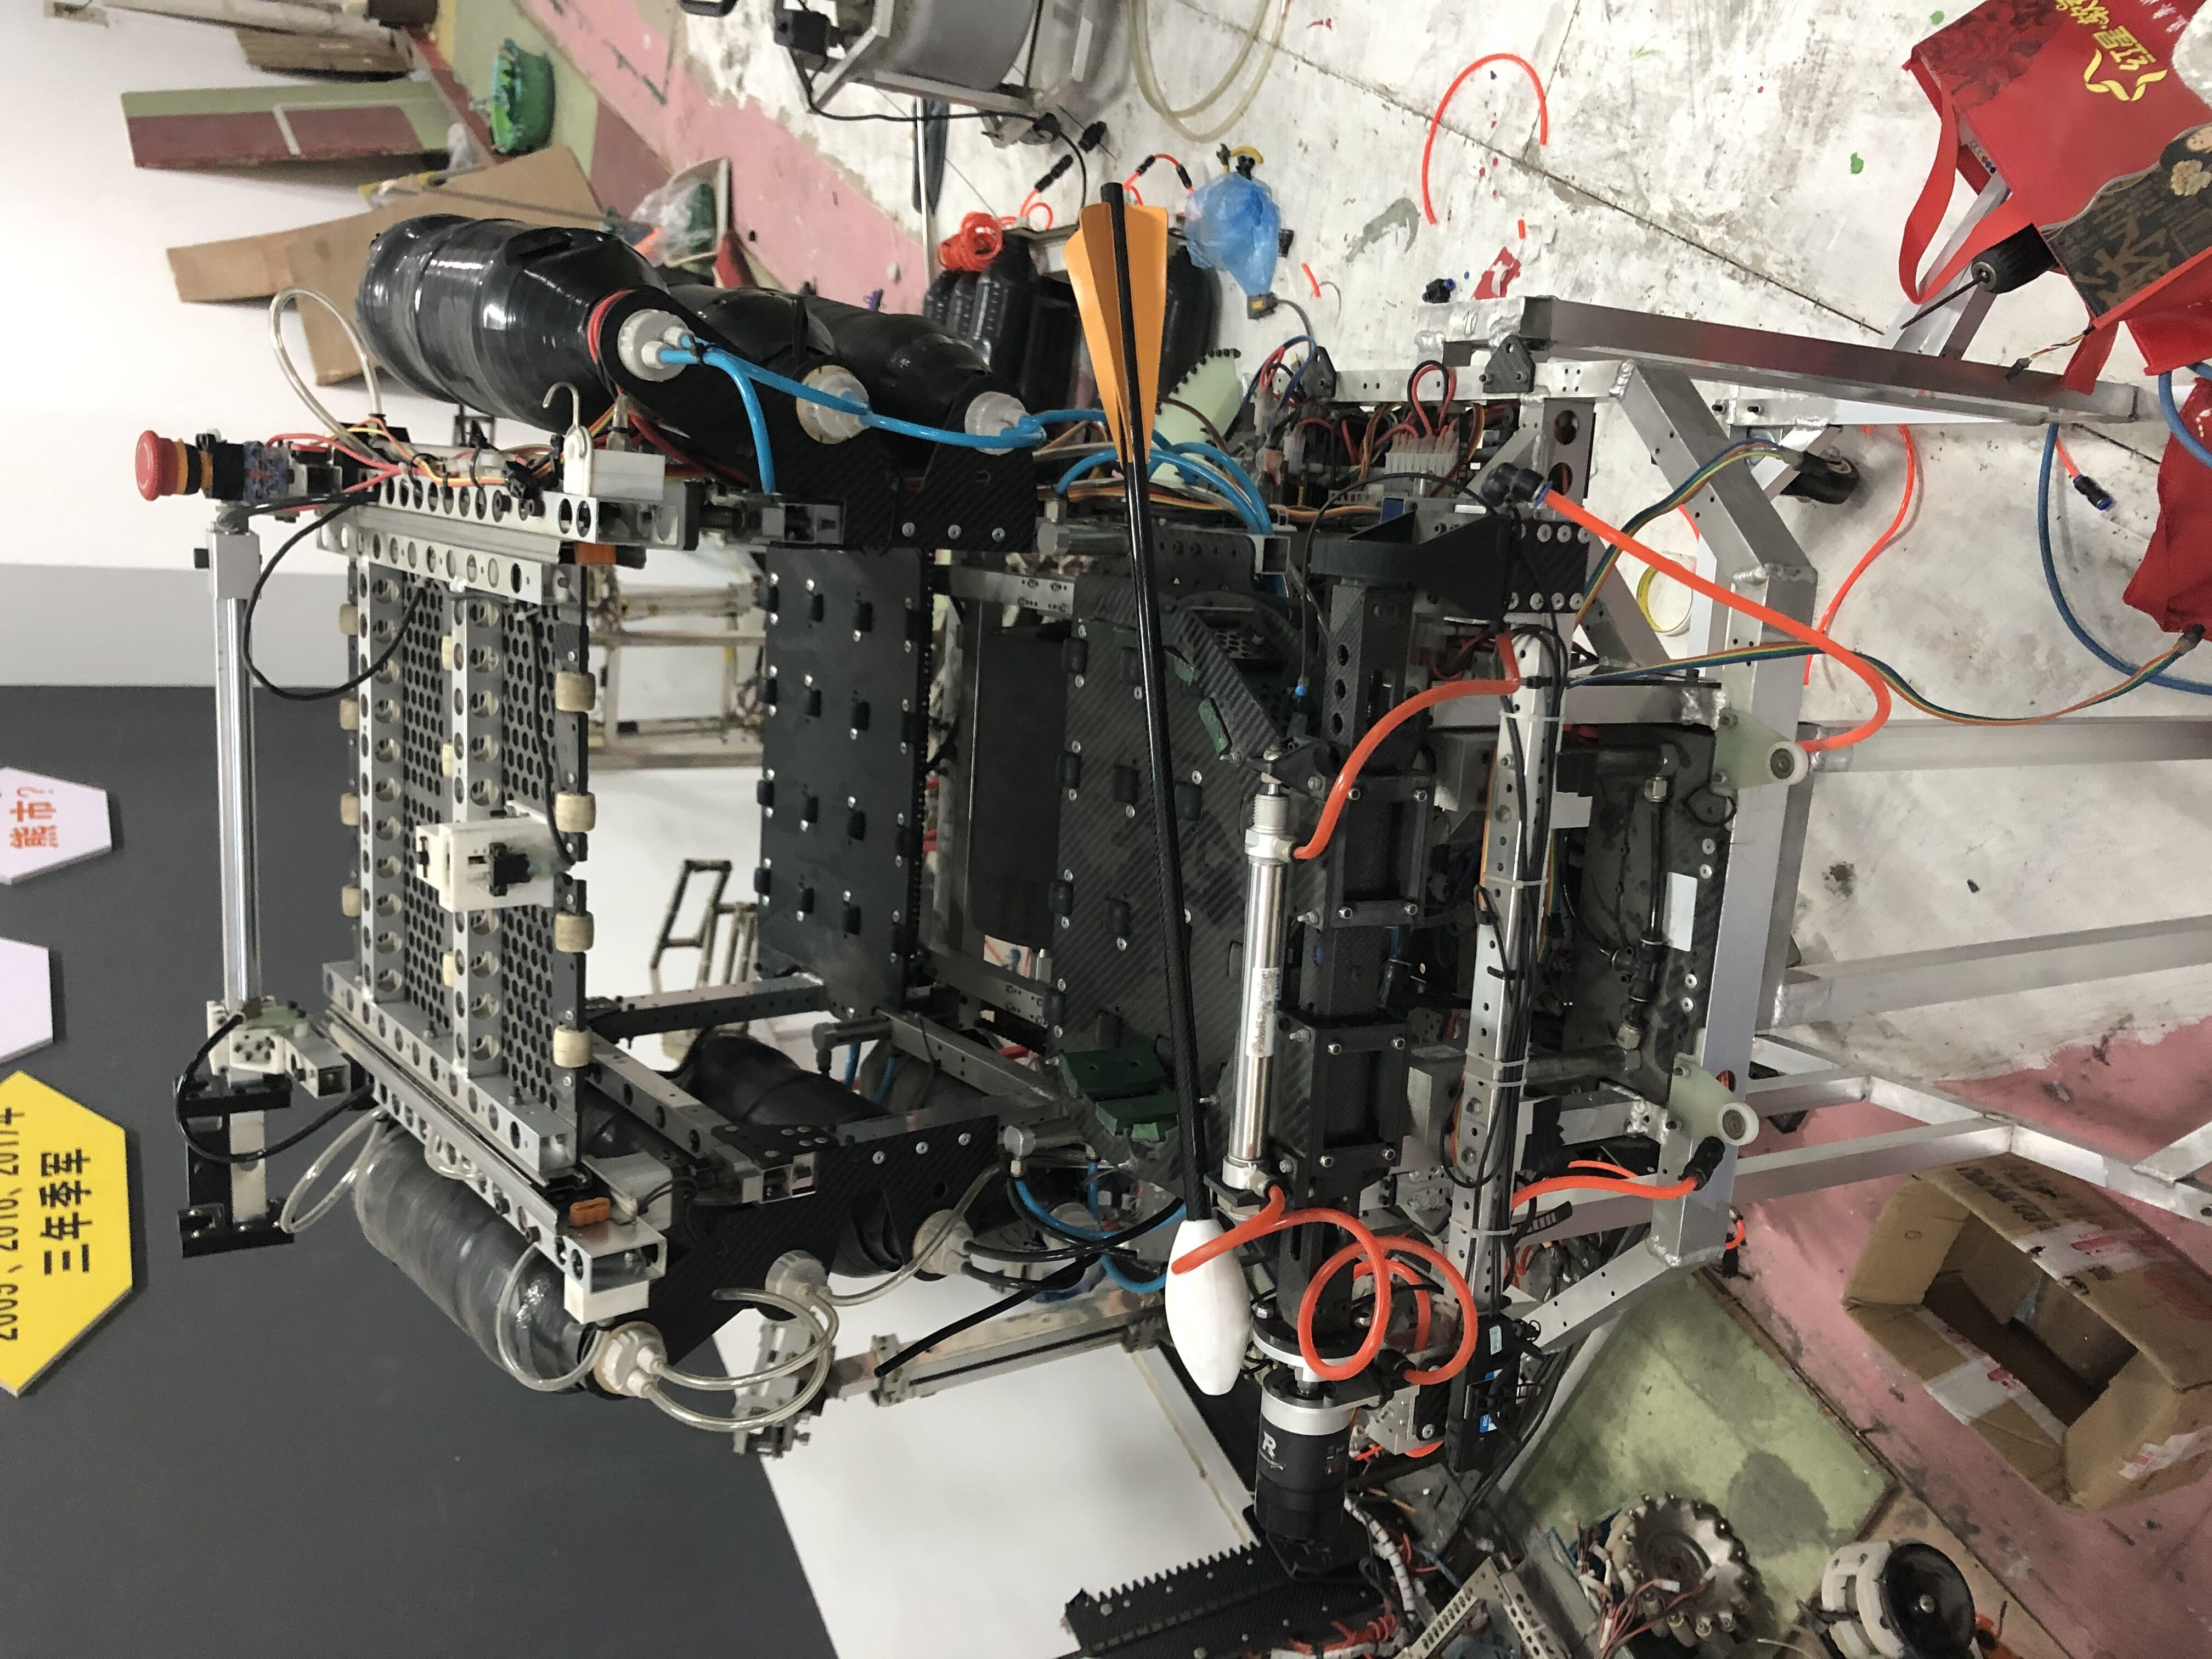arrow: (1055, 178, 1259, 1403)
arrowFront: (1162, 1218, 1249, 1398)
